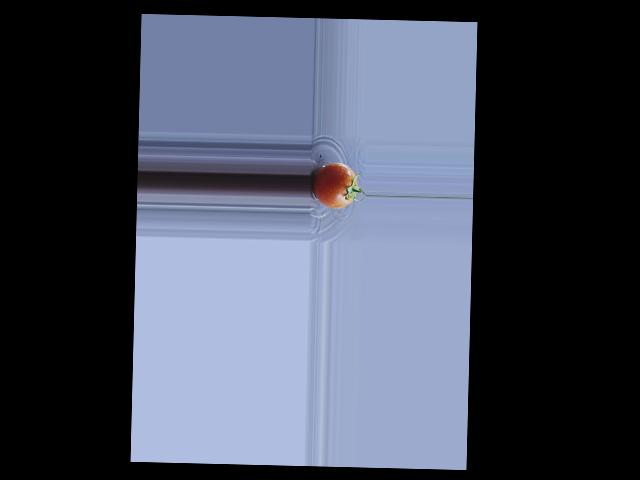tomato: (312, 162, 357, 208)
